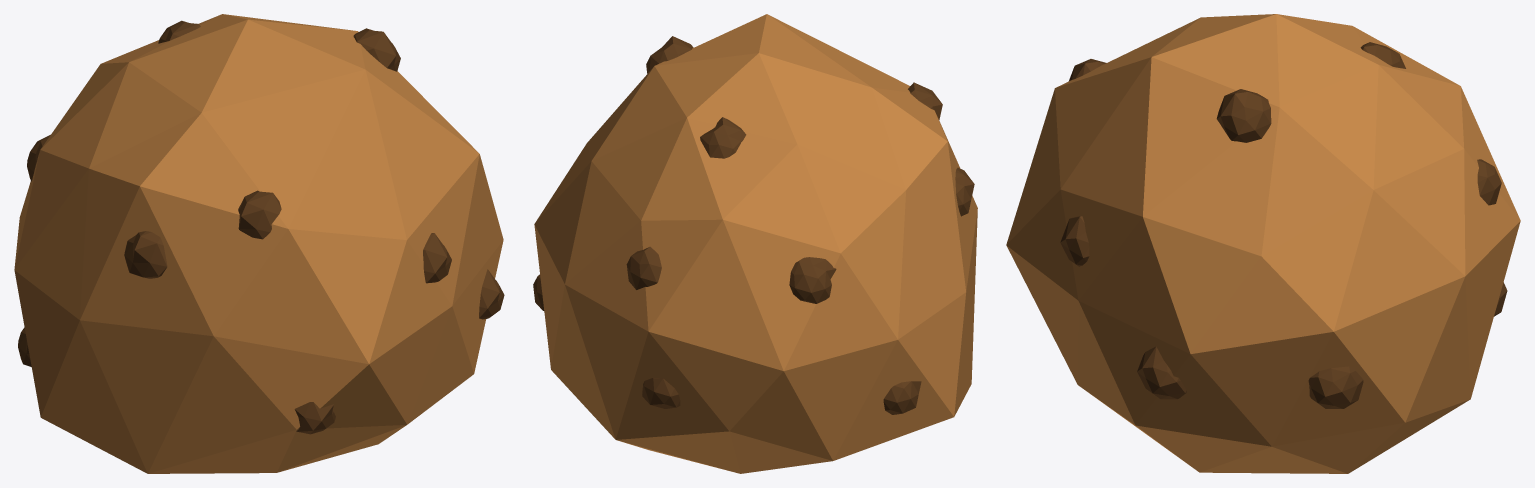
File: milkCookieDoughBall.fbx
The picture shows the model from 3 angles, left to right: view 1: azimuth 30°, elevation 25°; view 2: azimuth 150°, elevation 25°; view 3: azimuth 270°, elevation 25°; orthographic projection. The views are drawn at different scales.
Parts seen in each view (by area): view 1: Icosphere; view 2: Icosphere; view 3: Icosphere.
Part boxes in pixels (x1,y1,x2,y2): Icosphere: (14, 14, 504, 473); Icosphere: (533, 14, 977, 473); Icosphere: (1006, 14, 1520, 473).
Size of the model in its own units: 185 by 179 by 197.
